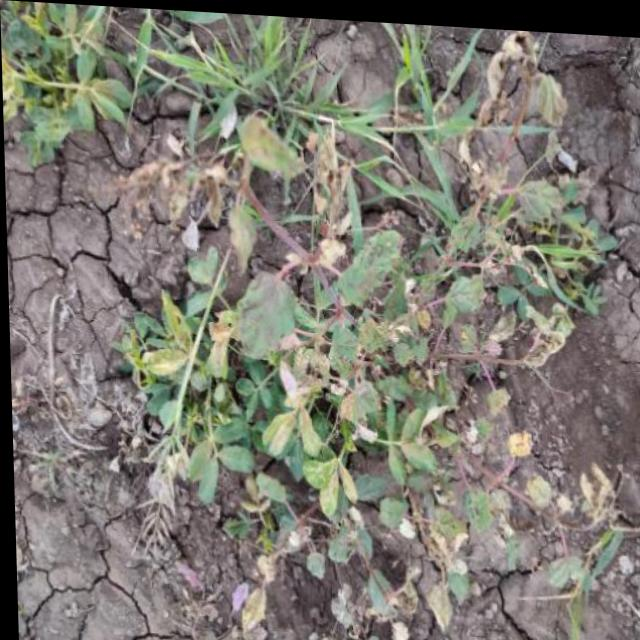weed: (141, 149, 565, 582)
